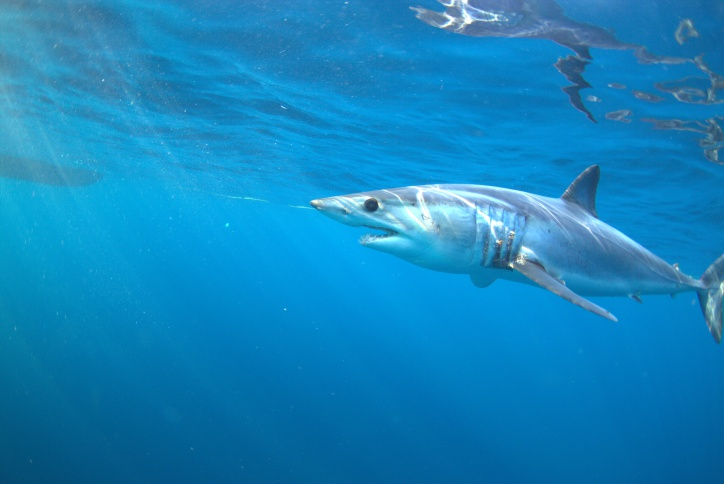Mako: (298, 141, 724, 352)
